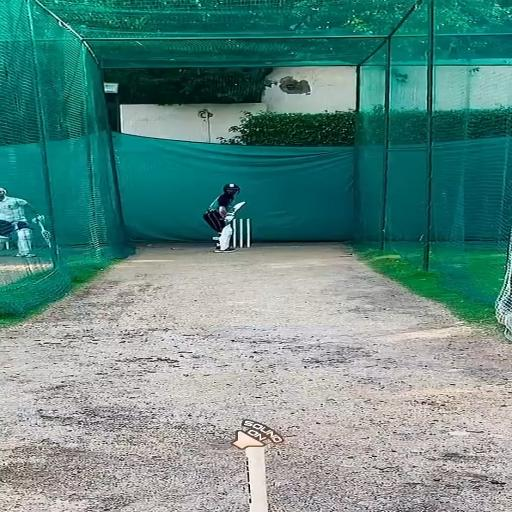Cricket bat: (225, 201, 246, 222)
